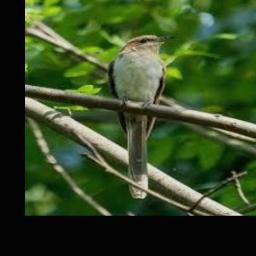Cuckoo: (108, 35, 178, 196)
